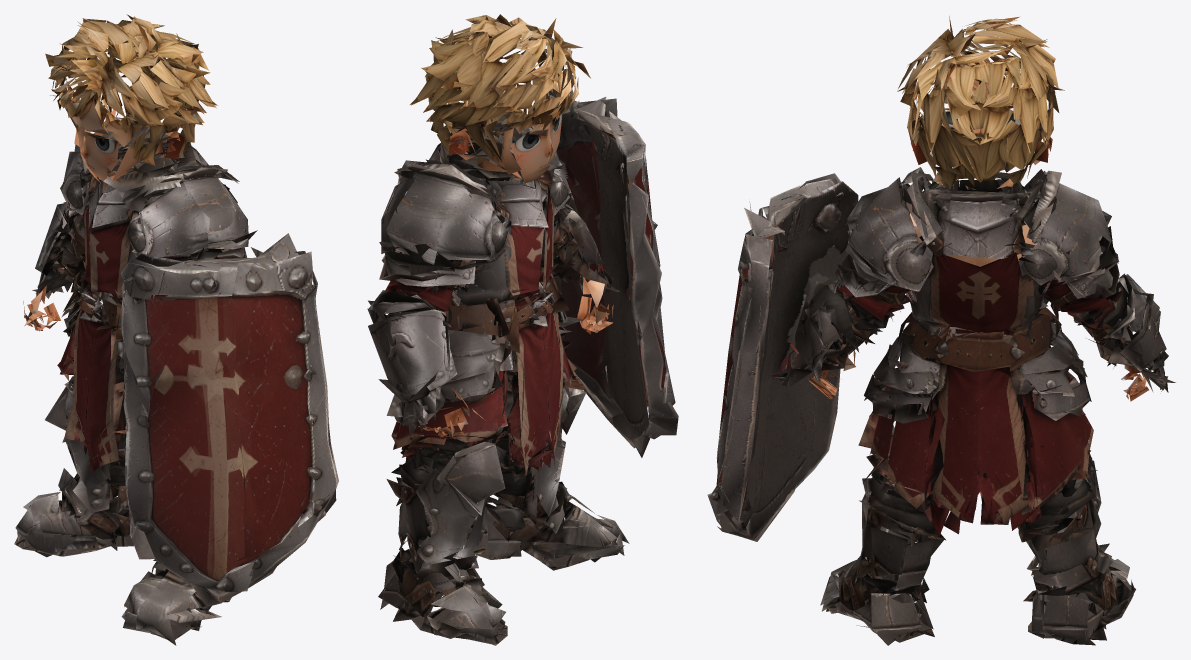
File: tank_01.fbx
3 renders of one model, left to right at view 1: azimuth 30°, elevation 25°; view 2: azimuth 150°, elevation 25°; view 3: azimuth 270°, elevation 25°, orthographic. The views are drawn at different scales.
Parts seen in each view (by area): view 1: tank_01; view 2: tank_01; view 3: tank_01.
Part boxes in pixels (<box>): tank_01: <box>14,14,338,645</box>; tank_01: <box>367,14,678,645</box>; tank_01: <box>707,16,1175,645</box>.
Bounding box in the file's own units: 0.3177 × 1 × 0.7171.
Materials: 2 (2 with a texture image).
